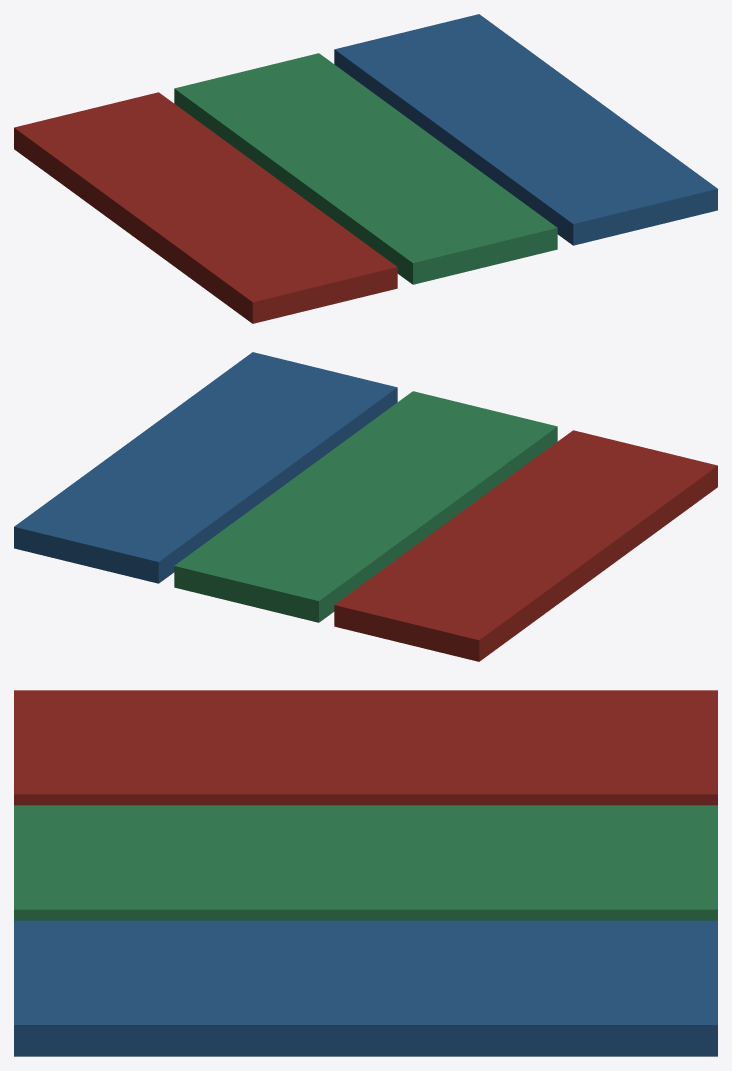
File: P003-blockout-v1.glb
3 renders of one model, top to bottom at view 1: azimuth 30°, elevation 25°; view 2: azimuth 150°, elevation 25°; view 3: azimuth 270°, elevation 25°, orthographic. The views are drawn at different scales.
Visible parts, largest first — view 1: 濾鏡red, 濾鏡green, 濾鏡blue; view 2: 濾鏡red, 濾鏡green, 濾鏡blue; view 3: 濾鏡blue, 濾鏡red, 濾鏡green.
Boxes of the visible parts, <box> form: 濾鏡red: <box>14,92,397,323</box>; 濾鏡green: <box>174,53,557,284</box>; 濾鏡blue: <box>334,14,717,245</box>; 濾鏡red: <box>334,430,717,661</box>; 濾鏡green: <box>174,391,557,622</box>; 濾鏡blue: <box>14,352,397,583</box>; 濾鏡blue: <box>14,920,717,1056</box>; 濾鏡red: <box>14,690,717,805</box>; 濾鏡green: <box>14,805,717,920</box>.
Bounding box in the file's own units: 0.09 × 0.004 × 0.08.
